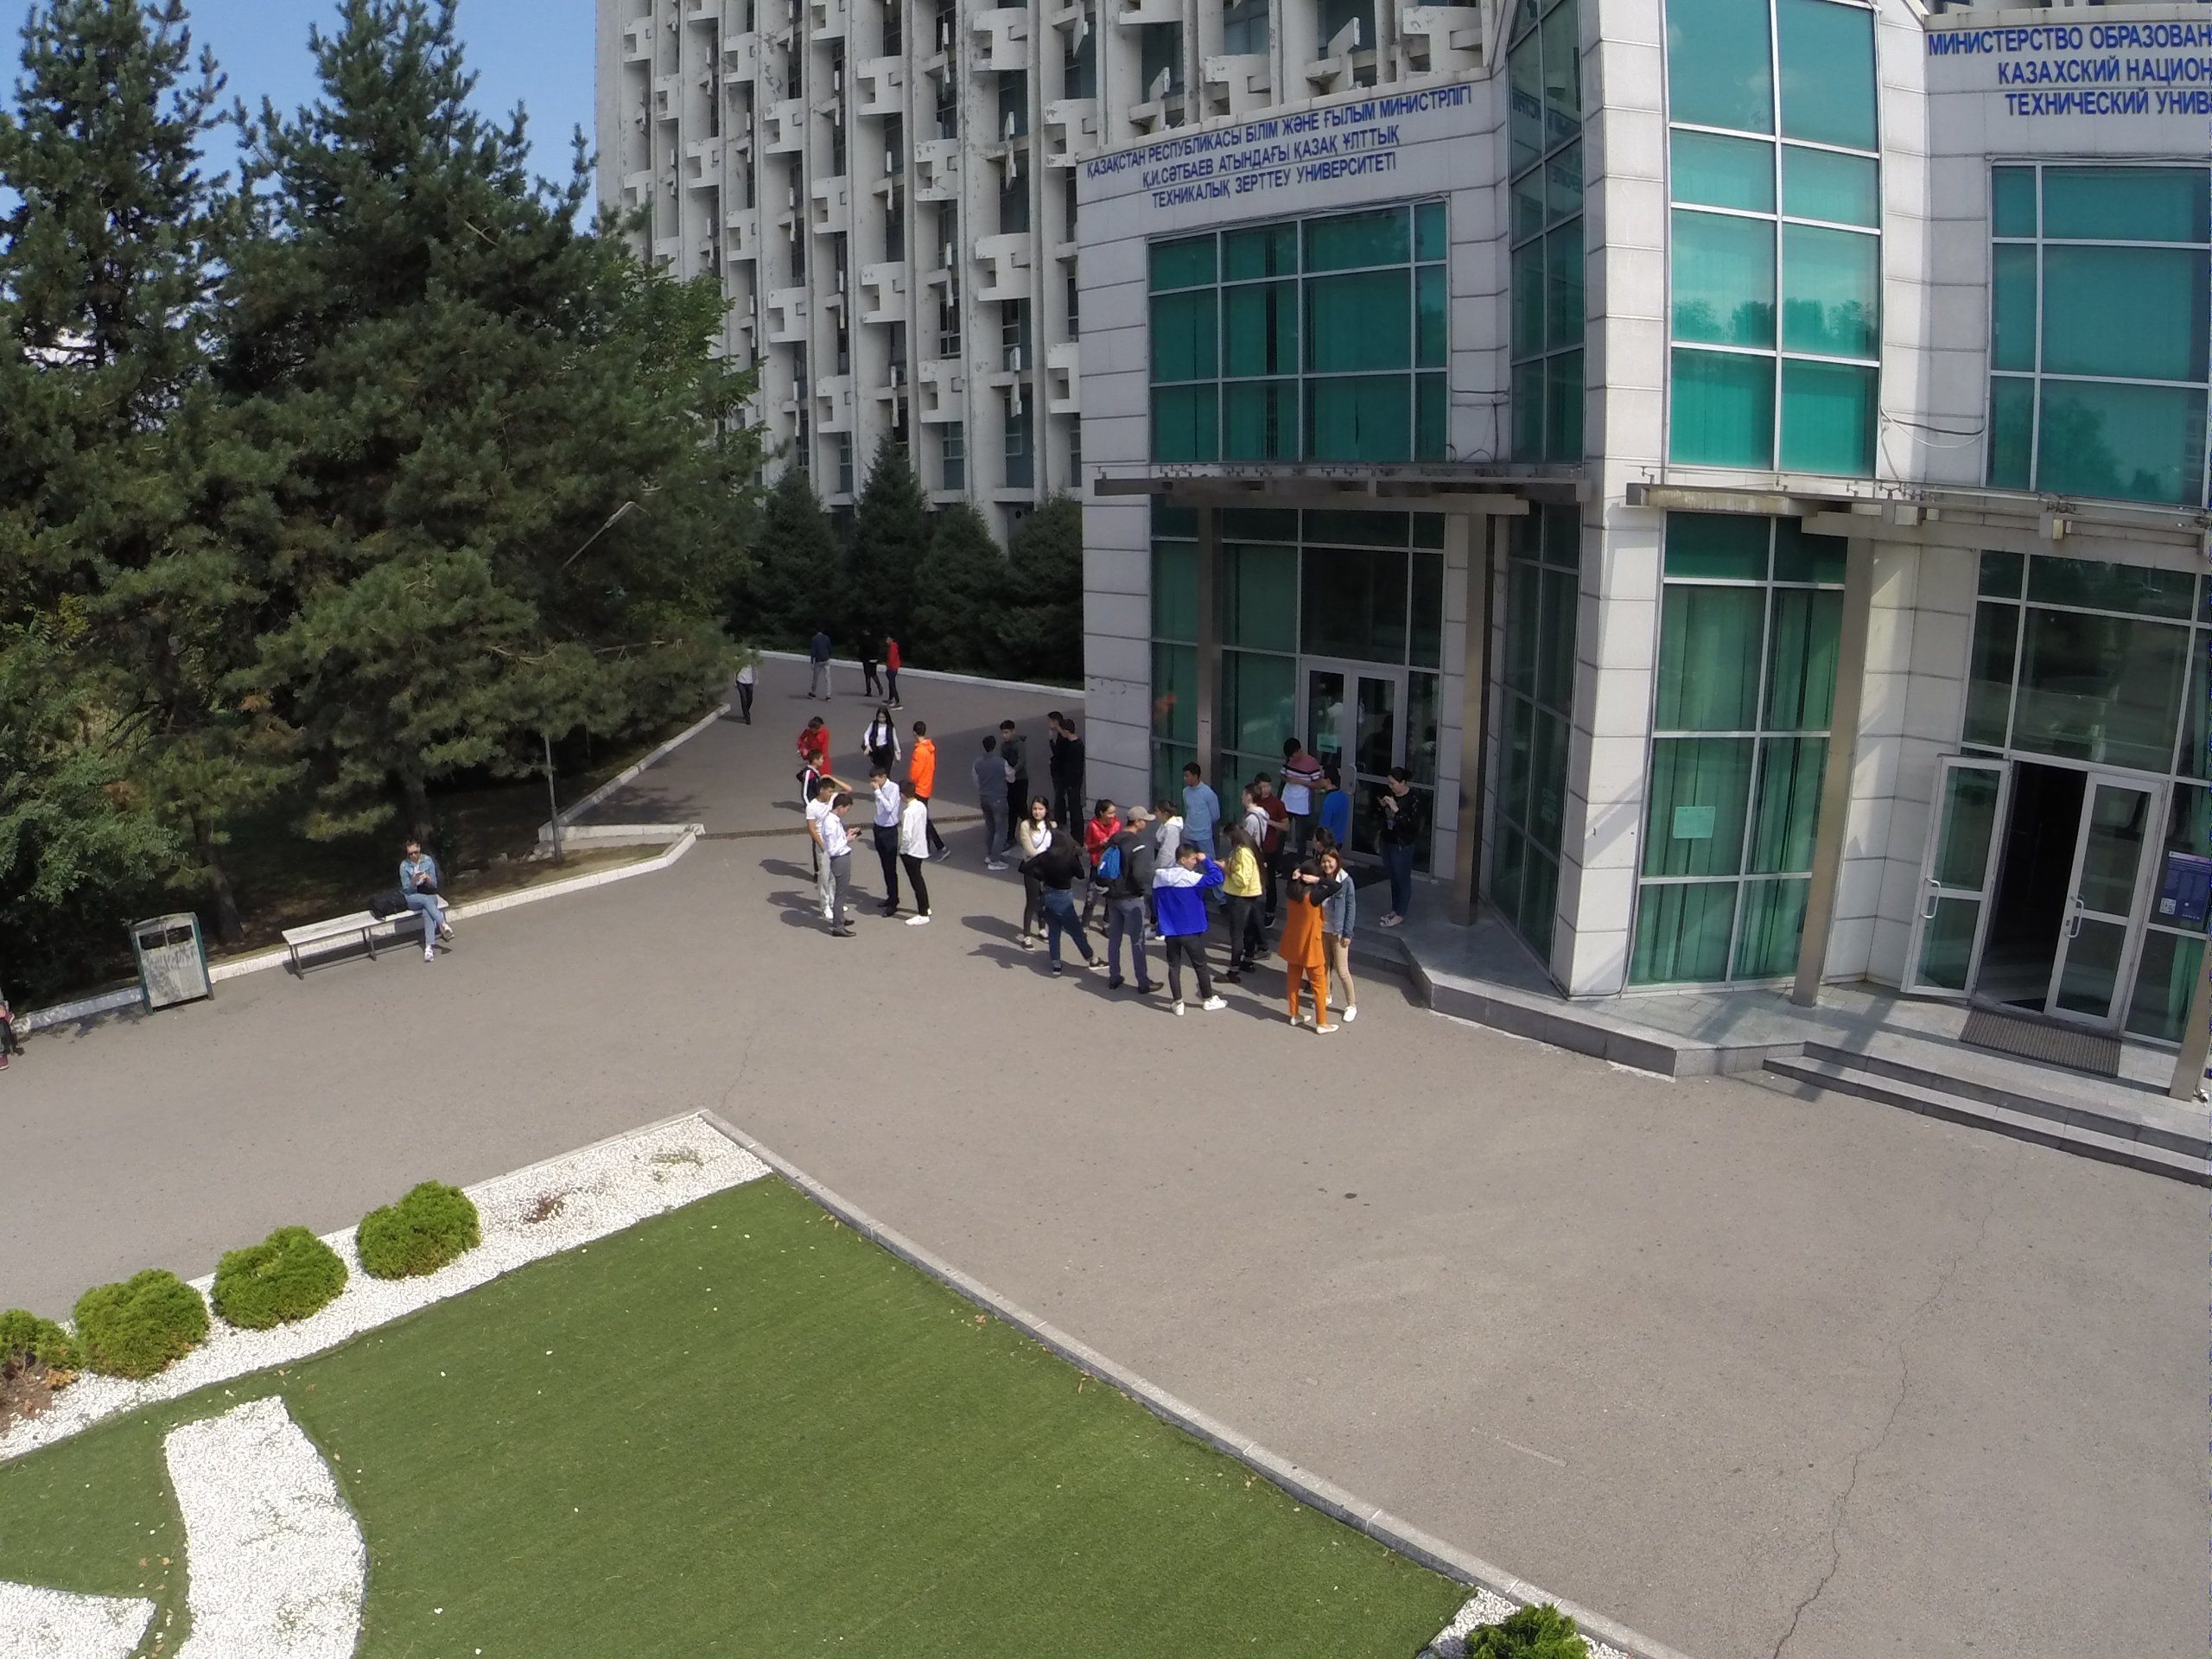person: (1154, 838, 1229, 1019), (1096, 800, 1161, 996), (1280, 858, 1338, 1041), (1042, 833, 1107, 982), (1374, 768, 1421, 930), (1321, 844, 1363, 1027), (397, 837, 455, 960), (1217, 821, 1259, 986), (822, 794, 862, 944), (974, 738, 1014, 874), (1024, 797, 1057, 957), (868, 772, 902, 921), (1082, 798, 1118, 935), (901, 785, 932, 926), (1054, 721, 1087, 829), (1181, 766, 1222, 855), (1280, 741, 1316, 829), (996, 717, 1026, 810), (804, 624, 838, 702), (864, 705, 901, 768), (909, 721, 940, 791), (1154, 799, 1182, 867), (855, 624, 877, 695), (797, 747, 824, 801), (1241, 786, 1266, 845), (1321, 761, 1344, 829), (735, 665, 759, 727), (885, 637, 903, 709), (801, 718, 829, 762)
